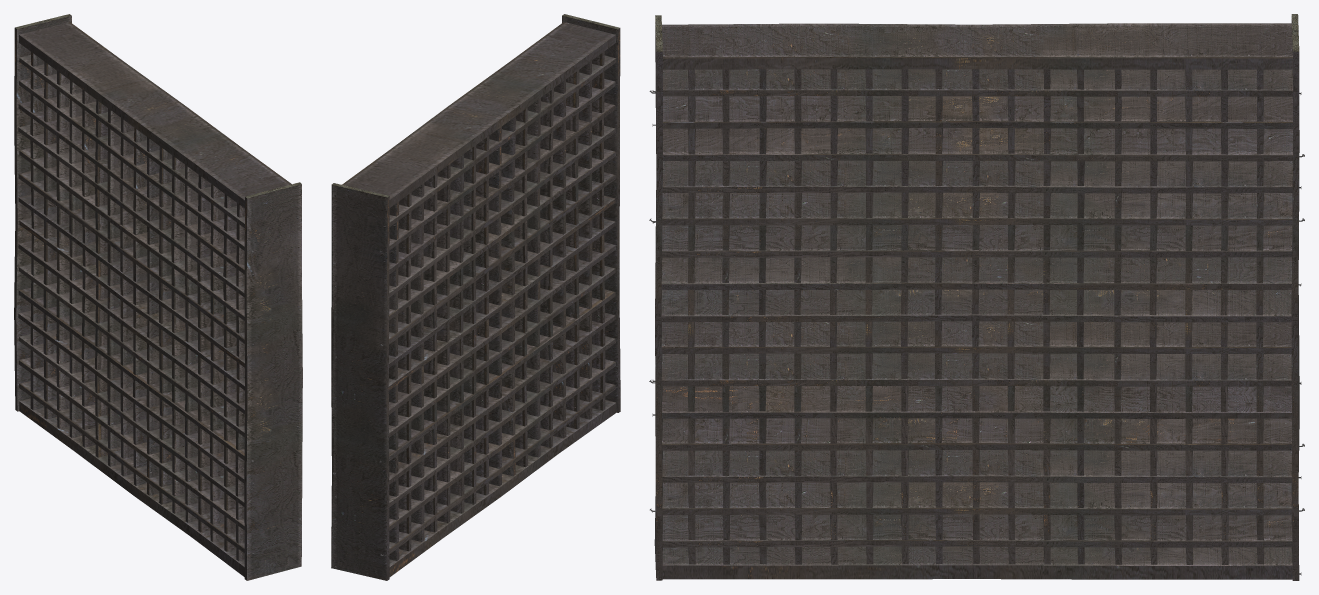
The model's file is SM_WineRackA.FBX.
The picture shows the model from 3 angles, left to right: view 1: azimuth 30°, elevation 25°; view 2: azimuth 150°, elevation 25°; view 3: azimuth 270°, elevation 25°; orthographic projection. The views are drawn at different scales.
Parts seen in each view (by area): view 1: SM_WineRackA; view 2: SM_WineRackA; view 3: SM_WineRackA.
Boxes of the visible parts, x1,y1,x2,y2 form: SM_WineRackA: (14,14,302,580); SM_WineRackA: (331,14,620,580); SM_WineRackA: (649,14,1304,580).
Bounding box in the file's own units: 27.79 × 181 × 203.
